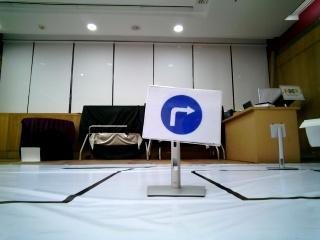right: (152, 86, 218, 138)
